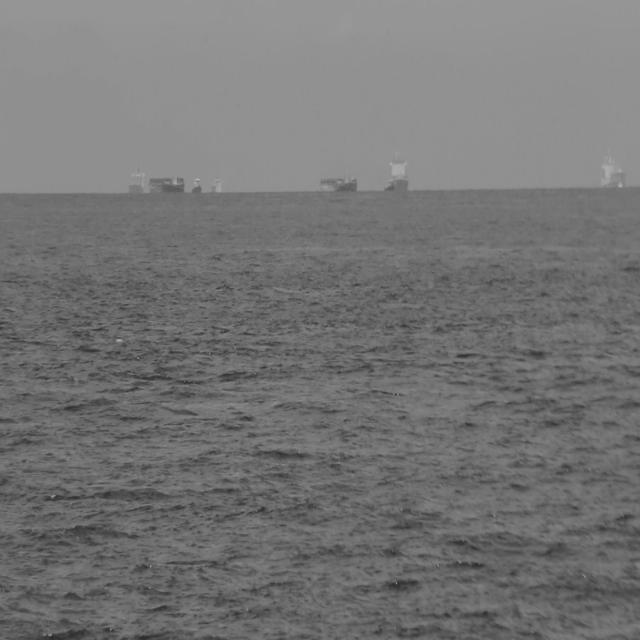ship: (128, 163, 186, 194), (382, 144, 410, 192), (599, 146, 626, 190), (318, 170, 358, 193), (190, 174, 203, 196)
